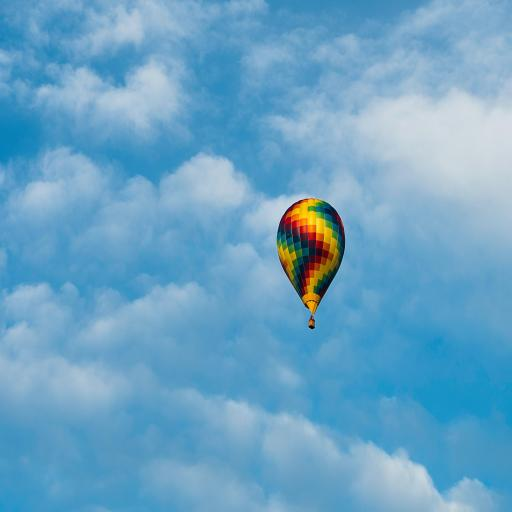hot air ballon: (276, 198, 346, 330)
